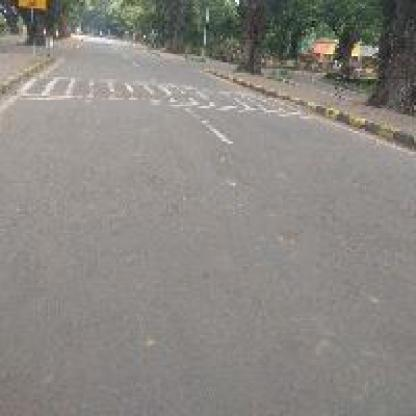Speed Bump: (10, 73, 316, 116)
